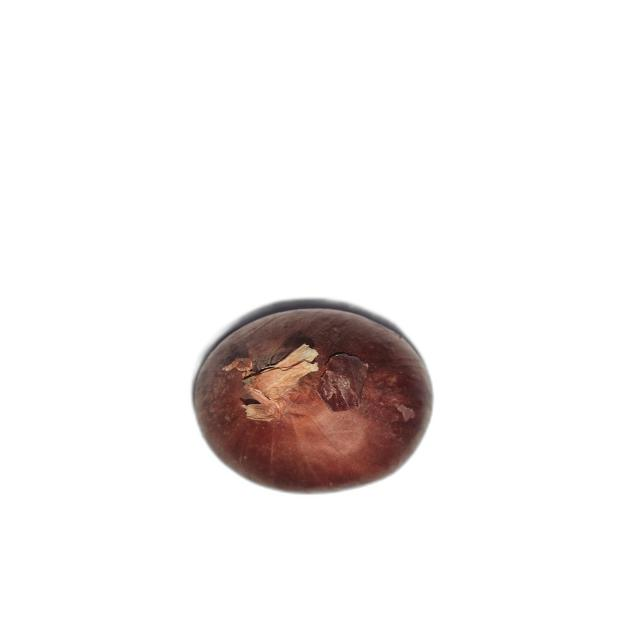onion: (191, 306, 435, 496)
